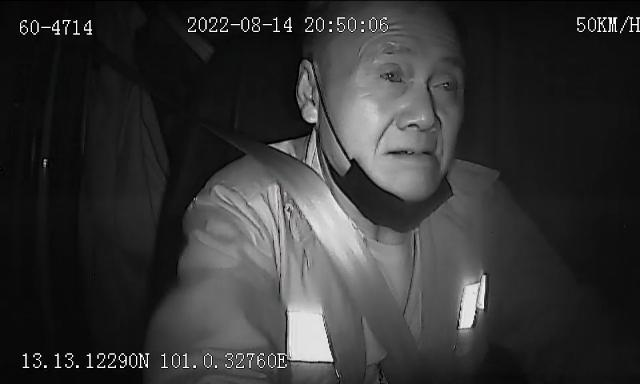SafeDriving: (424, 66, 464, 100), (373, 56, 410, 90)
Seatbelt: (195, 96, 490, 384)
